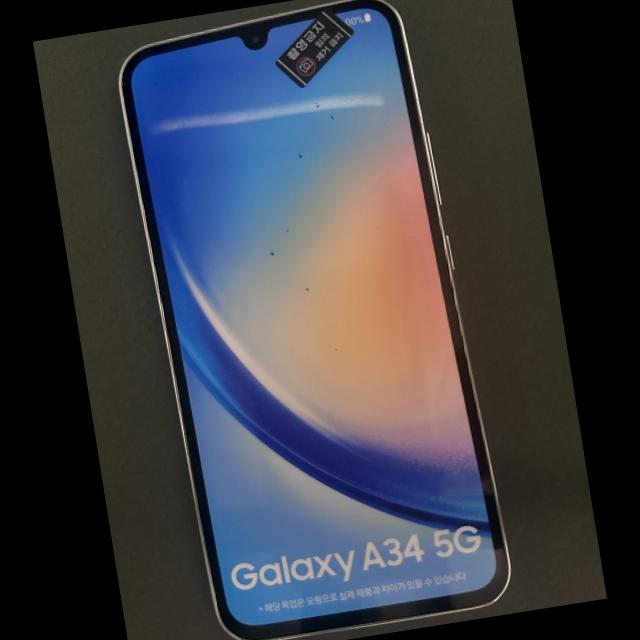lens: (249, 32, 261, 45)
phone: (121, 0, 509, 639)
sticker: (275, 9, 354, 88)
